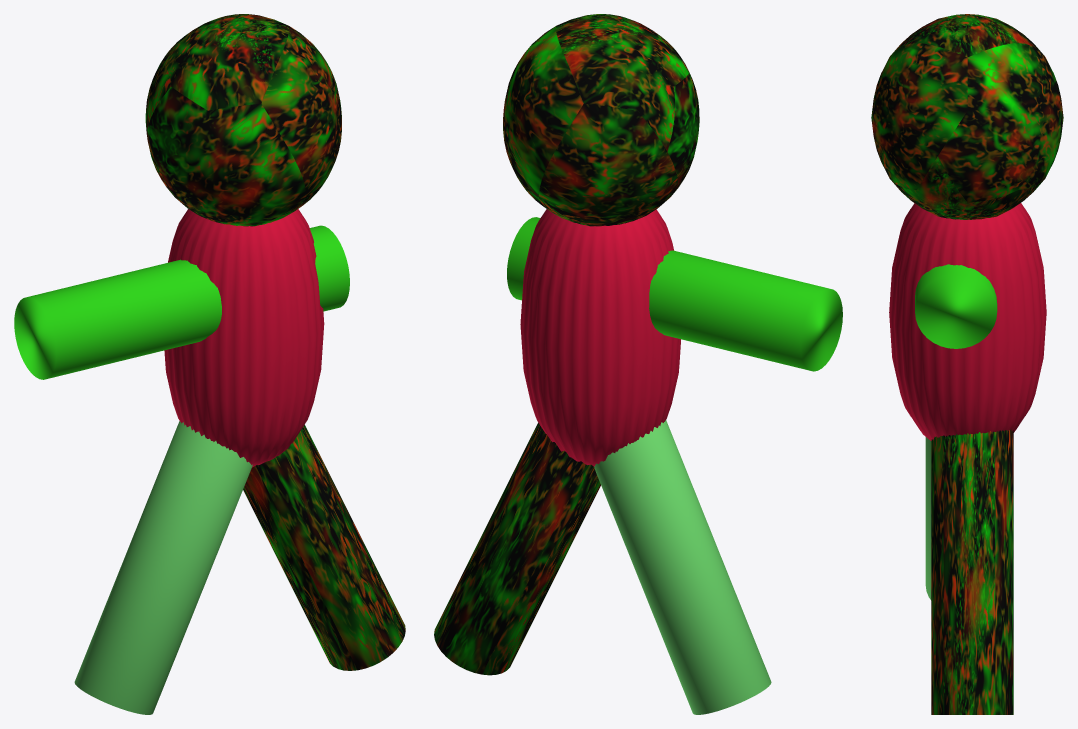
File: zombie1.fbx
3 views of the same model, side by side, from view 1: azimuth 30°, elevation 25°; view 2: azimuth 150°, elevation 25°; view 3: azimuth 270°, elevation 25° (orthographic). The views are drawn at different scales.
Parts seen in each view (by area): view 1: Icosphere, Cylinder, Cylinder.001, Cylinder.002, Cylinder.003; view 2: Icosphere, Cylinder, Cylinder.001, Cylinder.002, Cylinder.003; view 3: Icosphere, Cylinder, Cylinder.002, Cylinder.003, Cylinder.001.
Part boxes in pixels (<box>): Icosphere: <box>145,14,341,226</box>; Cylinder: <box>164,209,324,467</box>; Cylinder.001: <box>74,421,252,714</box>; Cylinder.002: <box>243,425,405,670</box>; Cylinder.003: <box>14,225,349,379</box>; Icosphere: <box>503,14,699,226</box>; Cylinder: <box>520,209,680,466</box>; Cylinder.001: <box>594,420,771,714</box>; Cylinder.002: <box>434,422,600,675</box>; Cylinder.003: <box>507,217,842,371</box>; Icosphere: <box>871,14,1063,219</box>; Cylinder: <box>889,203,1046,440</box>; Cylinder.002: <box>931,429,1013,714</box>; Cylinder.003: <box>915,264,997,348</box>; Cylinder.001: <box>925,437,931,600</box>.
Size of the model in its own units: 20.32 by 9.34 by 34.85.
